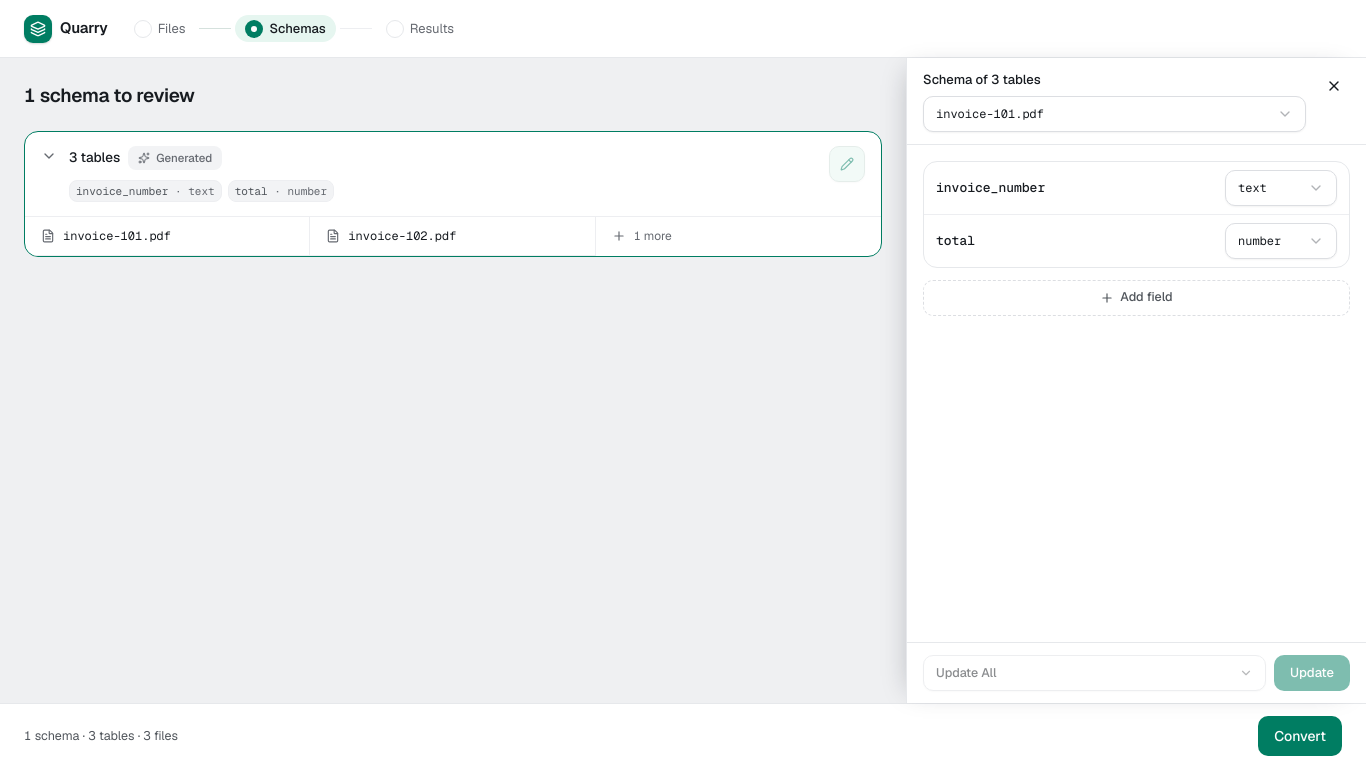
Test case: Review schemas › edits one table at a time, but offers the whole group to apply to
Expected: the heading "1 schema to review" is shown, [24,83,195,108]
Expected: the text "Schema of 3 tables" is shown, [923,71,1041,88]
Click the dropdown named "Type of total" at (1281, 240), box [1225,222,1337,258]
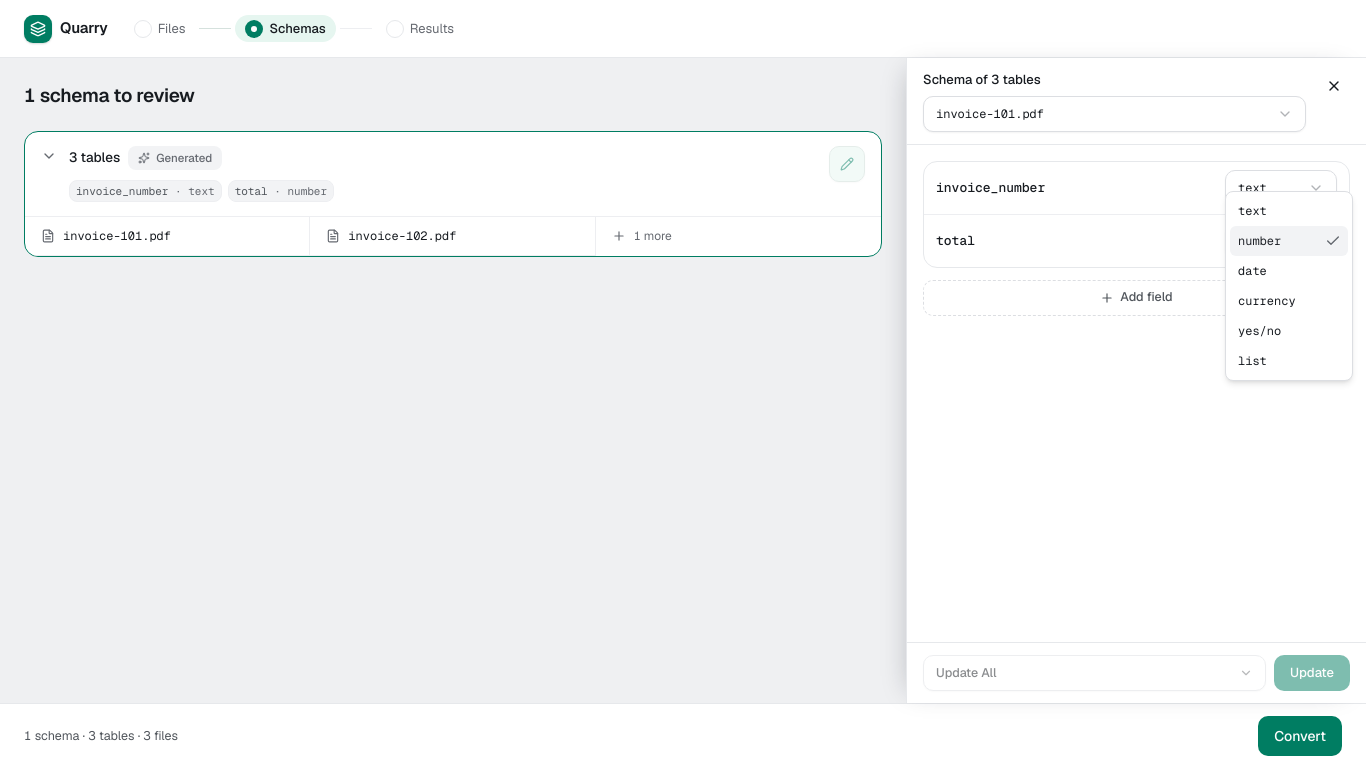
Click the option "currency" at (1267, 300), box [1238,292,1296,308]
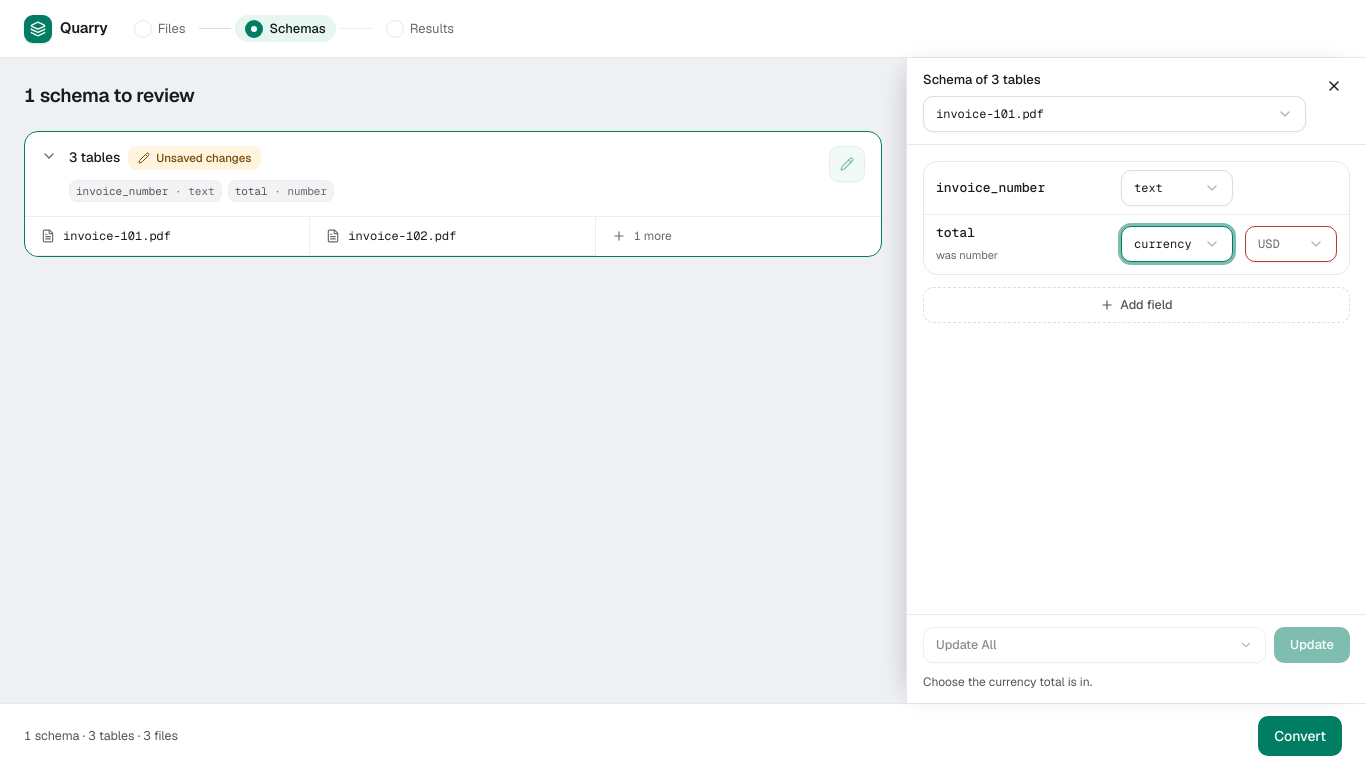
Click the dropdown named "Currency of total" at (1291, 244), box [1245,226,1337,262]
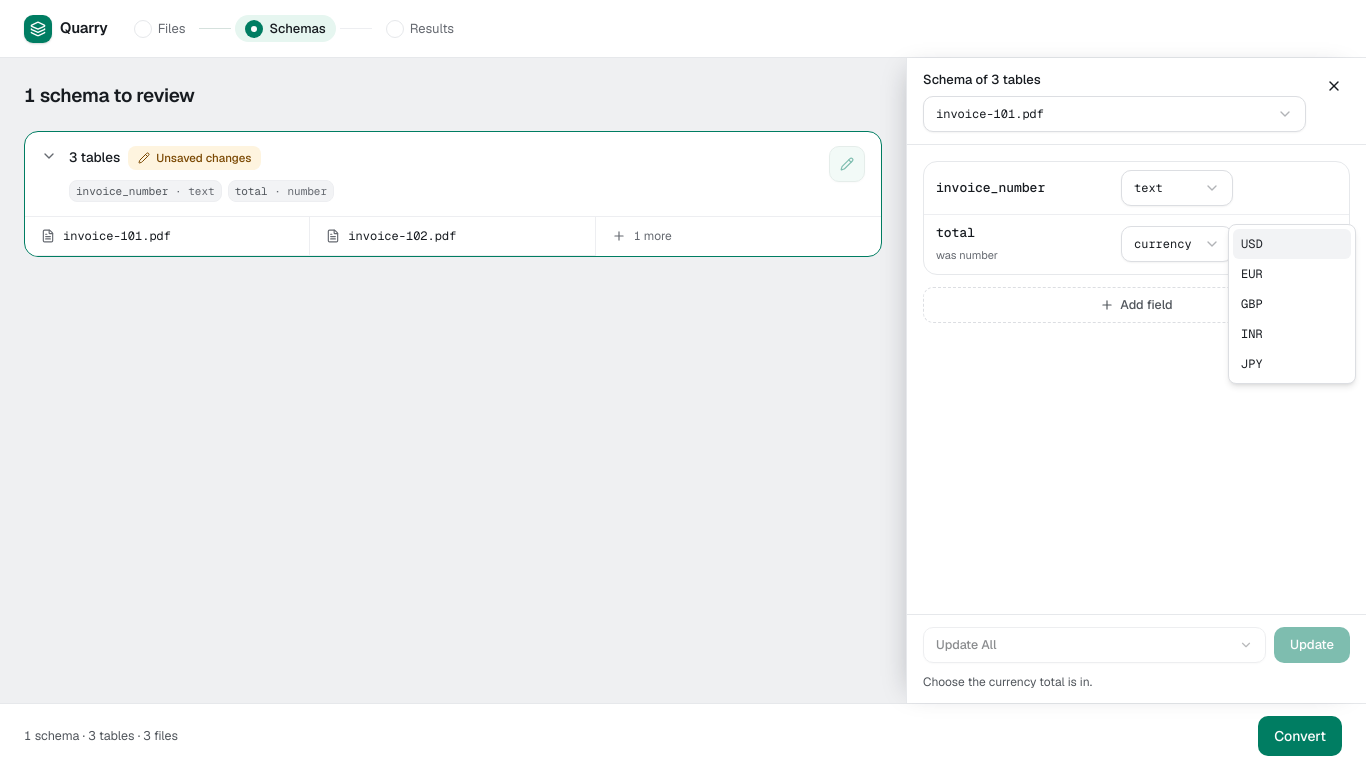
Click the option "USD" at (1292, 244), box [1233,229,1351,259]
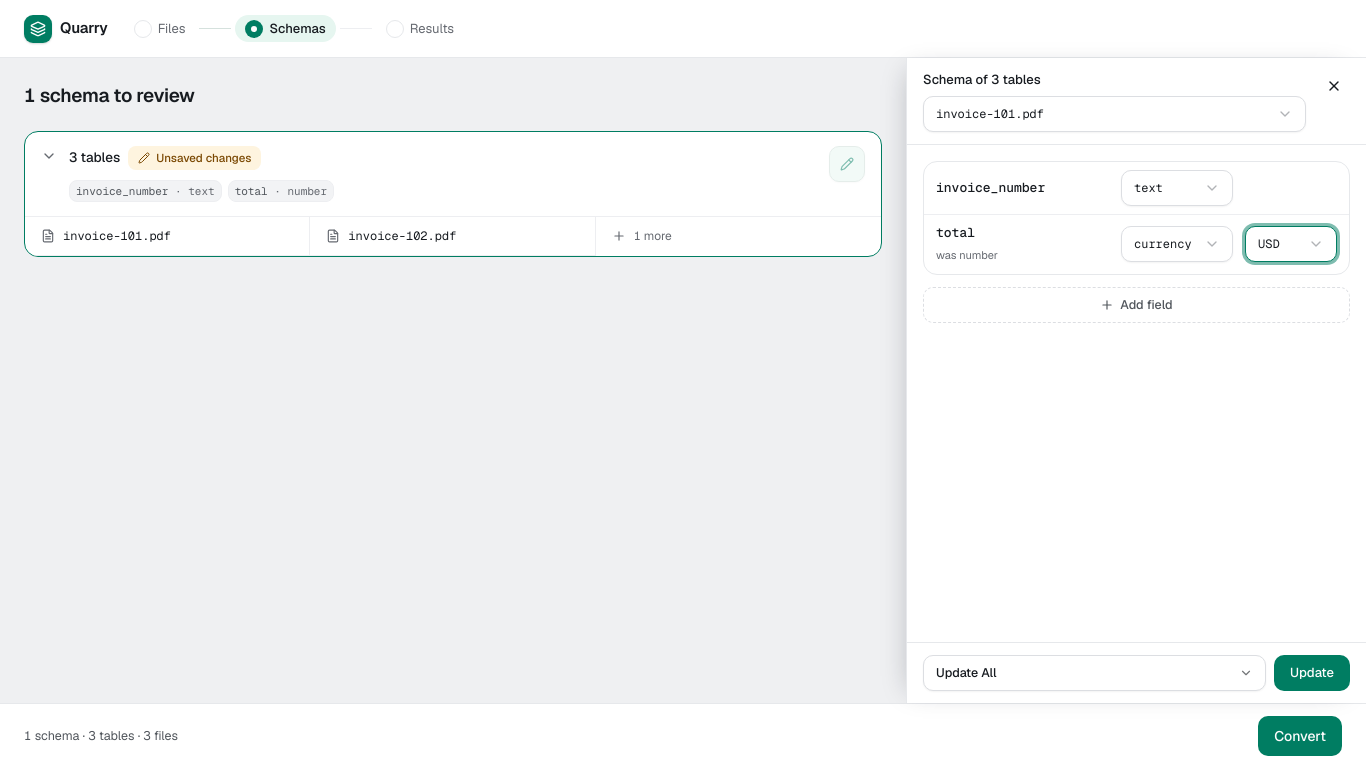
Expected: the button "Update All" is enabled, [923,655,1266,691]
Click the button "Update" at (1312, 673), box [1274,655,1350,691]
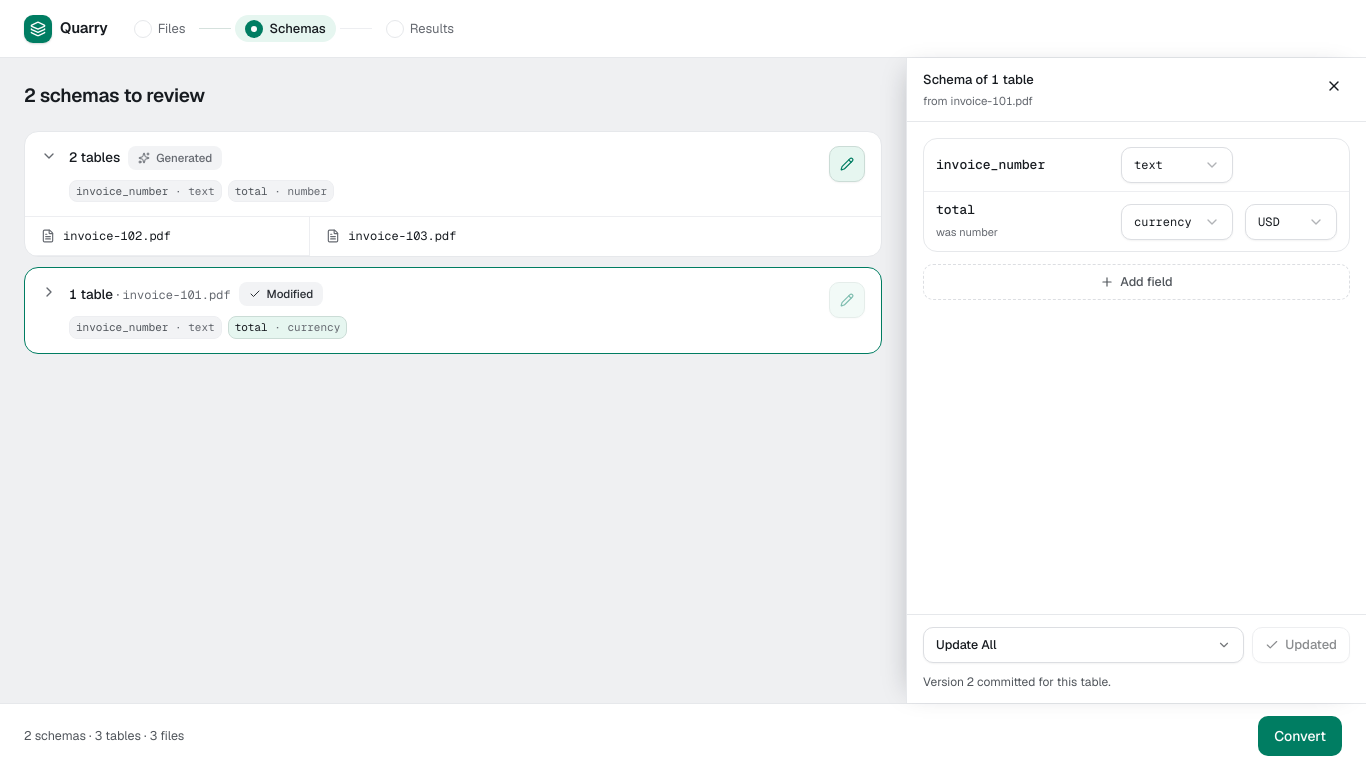
Expected: the text "currency" is shown, [1134,212,1192,230]
Expected: the heading "2 schemas to review" is shown, [24,83,205,108]
Expected: the text "Schema of 1 table" is shown, [923,71,1034,88]
